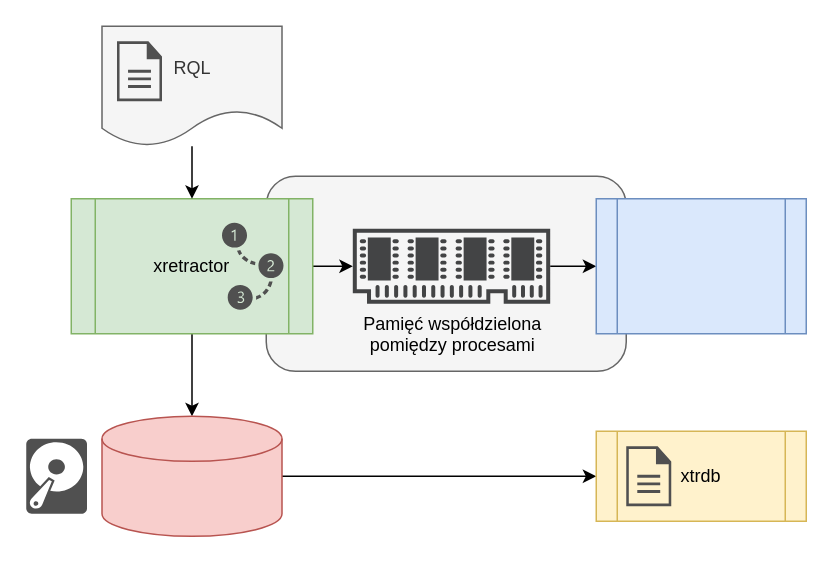
The diagram is 833 pixels wide and 563 high, and some of its shapes have lost their labels. The shapes that lost their labels are listed below. From the top down, each one's centre as x and y in pixels, then its label:
At (x=700, y=265): "xqry".
At (x=191, y=475): "Baza danych".
